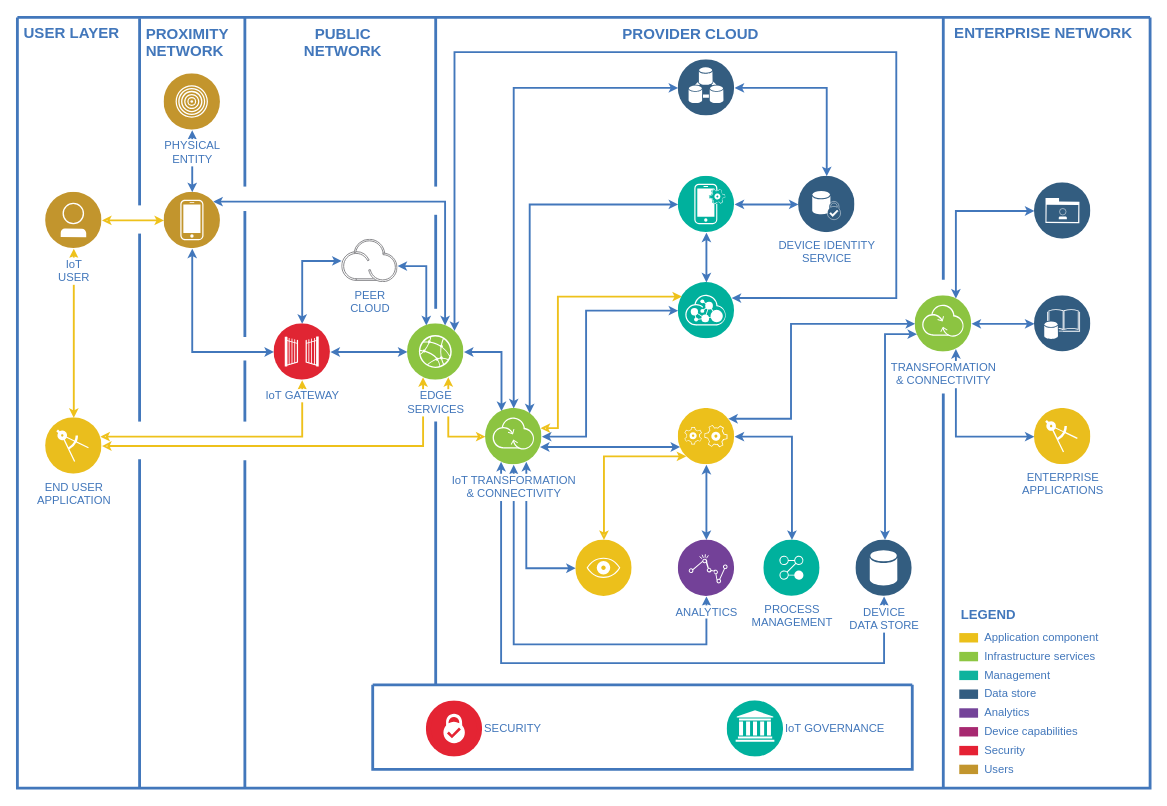
This 1167x806 diagram has some shape labels left out. Each missing label, with the centre of its shape:
"API MANAGEMENT" belongs at (x=706, y=310).
"APPLICATION LOGIC" belongs at (x=706, y=436).
"DEVICE" belongs at (x=192, y=220).
"DEVICE MANAGEMENT" belongs at (x=706, y=204).
"DEVICE REGISTRY" belongs at (x=706, y=87).
"ENTERPRISE DATA" belongs at (x=1062, y=323).
"ENTERPRISE USER DIRECTORY" belongs at (x=1062, y=210).
"VISUALIZATION" belongs at (x=603, y=568).
